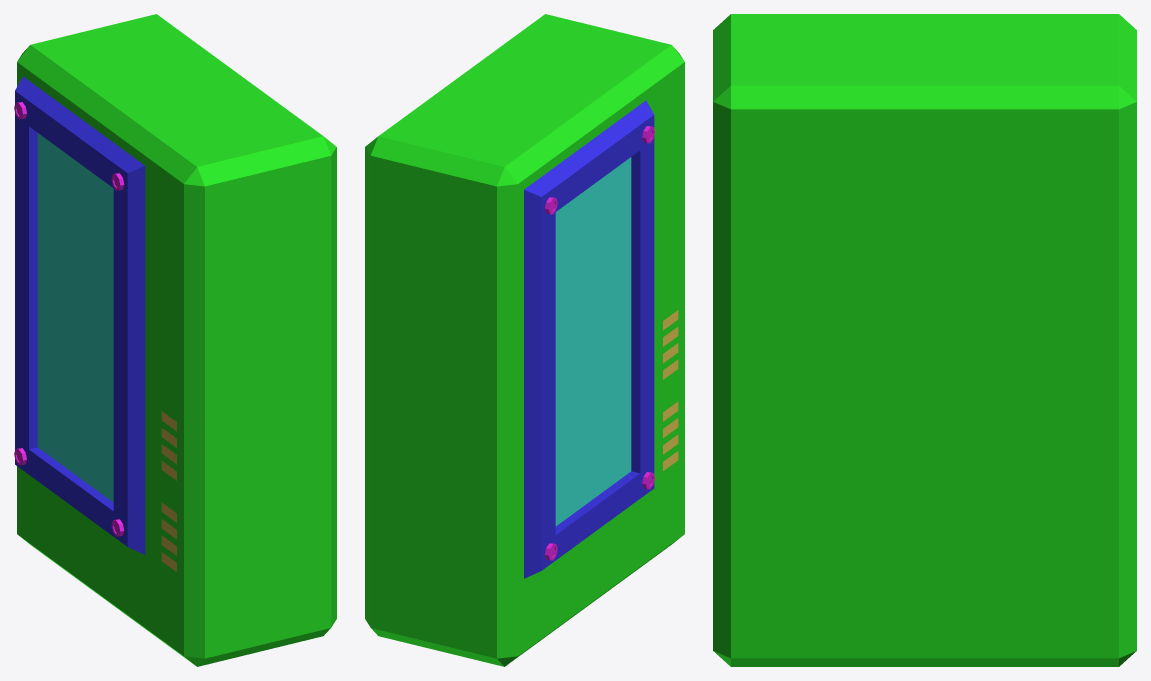
Rendered from Circuit_Box_02.fbx.
The picture shows the model from 3 angles, left to right: view 1: azimuth 30°, elevation 25°; view 2: azimuth 150°, elevation 25°; view 3: azimuth 270°, elevation 25°; orthographic projection. The views are drawn at different scales.
Visible parts, largest first — view 1: Circuit_Box_02; view 2: Circuit_Box_02; view 3: Circuit_Box_02.
Boxes of the visible parts, bbox=[...] form: Circuit_Box_02: bbox=[14, 14, 336, 666]; Circuit_Box_02: bbox=[365, 14, 684, 666]; Circuit_Box_02: bbox=[713, 14, 1136, 666].
Size of the model in its own units: 27.3 by 76.85 by 50.78.
